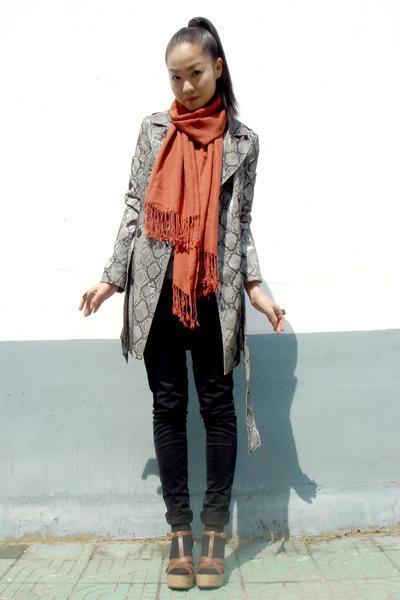jacket: (100, 93, 262, 371)
pants: (143, 257, 239, 532)
shoe: (158, 525, 233, 587)
